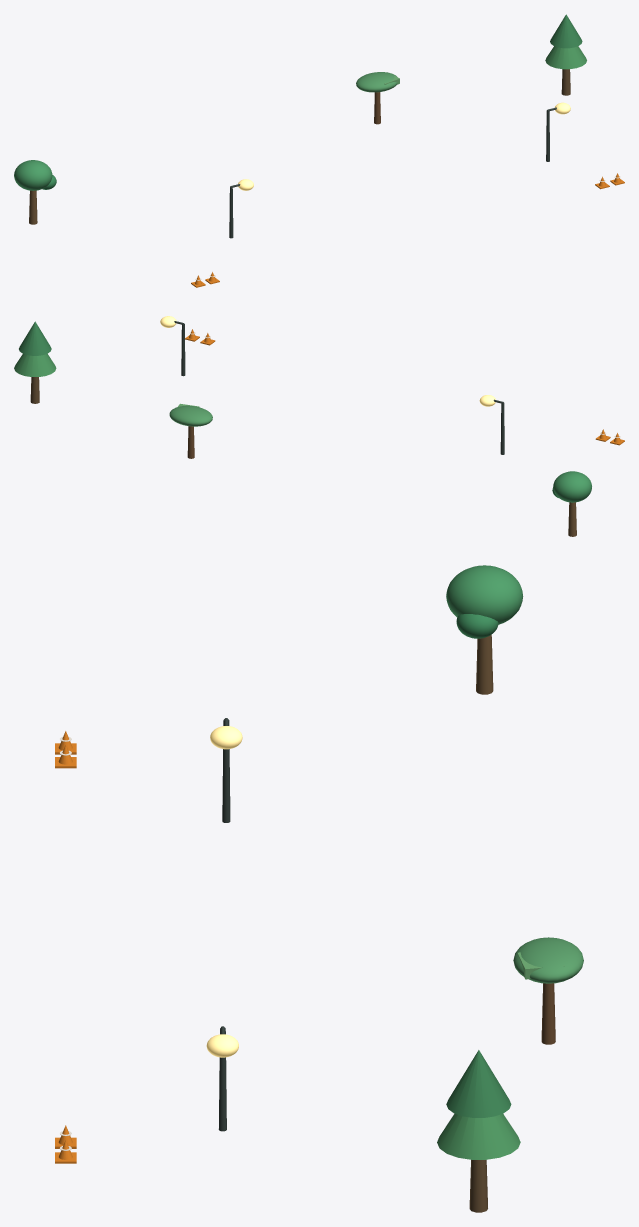
The model's file is street_props.glb.
3 views of the same model, one above another, from view 1: azimuth 30°, elevation 25°; view 2: azimuth 150°, elevation 25°; view 3: azimuth 270°, elevation 25° (orthographic). The views are drawn at different scales.
Visible parts, largest first — view 1: leaf_main, leaf_low, flat_canopy, leaf_high; view 2: leaf_main, leaf_low, flat_canopy, leaf_high; view 3: leaf_main, leaf_low, leaf_high, flat_canopy, trunk (×2).
Boxes of the visible parts, x1,y1,x2,y2 form: leaf_main: (14,160,52,190); leaf_low: (545,46,586,69); flat_canopy: (356,72,397,92); leaf_high: (550,14,582,48); leaf_main: (553,471,591,502); leaf_low: (14,353,56,376); flat_canopy: (169,405,212,426); leaf_high: (19,321,51,355); leaf_main: (446,565,523,624); leaf_low: (437,1113,520,1159); leaf_high: (446,1050,511,1117); flat_canopy: (513,937,583,983); trunk (×2): (469,635,493,1212).
Bounding box in the file's own units: 11.24 × 1.52 × 4.55.
